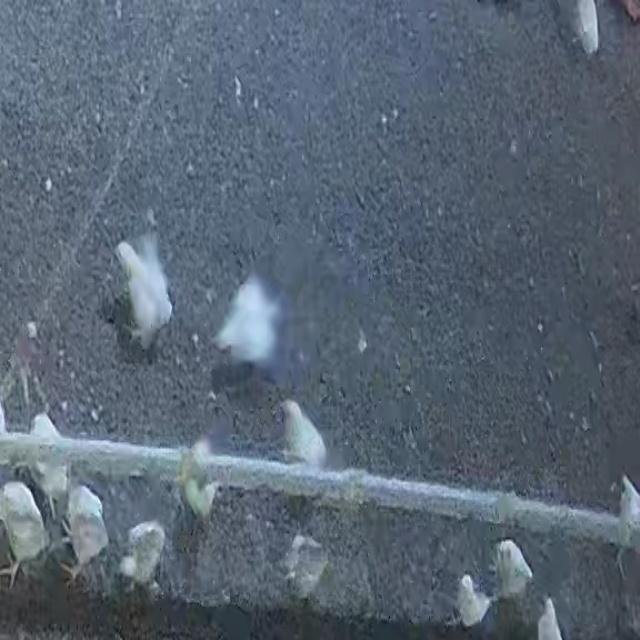chicken: (216, 280, 282, 368), (123, 235, 173, 348), (66, 482, 116, 574), (0, 481, 46, 573), (23, 402, 68, 496), (125, 520, 171, 590), (282, 402, 322, 468), (496, 539, 540, 592), (458, 570, 496, 621)
